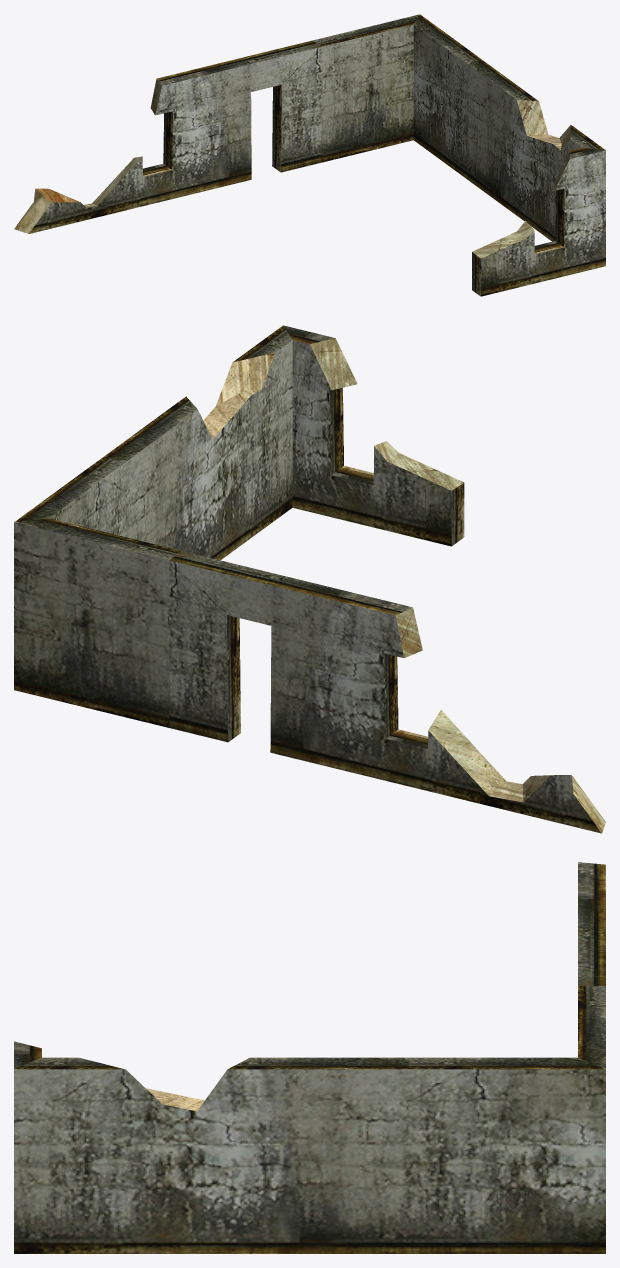
File: wall2.dae
The picture shows the model from 3 angles, top to bottom: view 1: azimuth 30°, elevation 25°; view 2: azimuth 150°, elevation 25°; view 3: azimuth 270°, elevation 25°; orthographic projection. The views are drawn at different scales.
Visible parts, largest first — view 1: wall2-col; view 2: wall2-col; view 3: wall2-col.
Boxes of the visible parts, bbox=[...] form: wall2-col: bbox=[14, 14, 605, 296]; wall2-col: bbox=[14, 325, 605, 833]; wall2-col: bbox=[14, 862, 605, 1253].
Size of the model in its own units: 15.13 by 12 by 4.12.
Materials: 1 (1 with a texture image).
